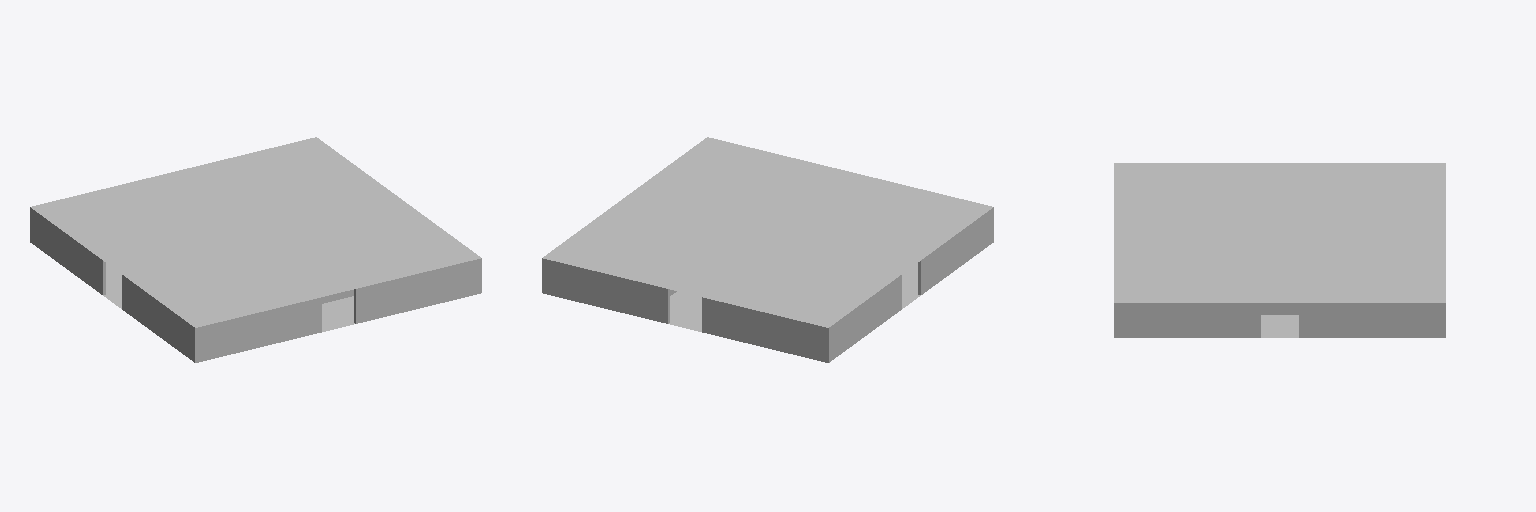
File: room2Render.obj
The picture shows the model from 3 angles: view 1: azimuth 30°, elevation 25°; view 2: azimuth 150°, elevation 25°; view 3: azimuth 270°, elevation 25°; orthographic projection.
Parts seen in each view (by area): view 1: Ceiling, Room, Floor; view 2: Ceiling, Room, Floor; view 3: Ceiling, Room, Floor, Room.004.
Part boxes in pixels (left/top/right/bottom): Ceiling: left=32, top=137, right=479, bottom=327; Room: left=30, top=137, right=481, bottom=362; Floor: left=103, top=263, right=354, bottom=331; Ceiling: left=543, top=137, right=992, bottom=327; Room: left=542, top=137, right=993, bottom=362; Floor: left=669, top=263, right=920, bottom=331; Ceiling: left=1114, top=163, right=1445, bottom=302; Room: left=1114, top=163, right=1445, bottom=337; Floor: left=1261, top=315, right=1298, bottom=337; Room.004: left=1173, top=217, right=1305, bottom=314.
Bounding box in the file's own units: 25.6 × 4 × 25.6.